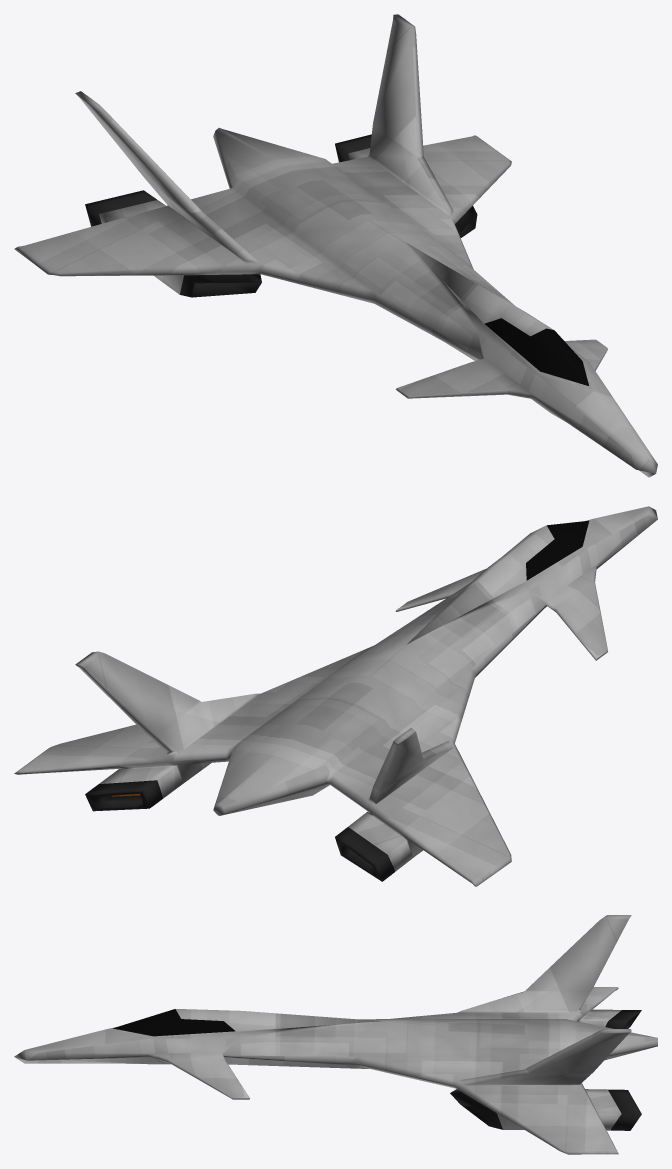
File: stealth aircraft_obj.obj
3 views of the same model, one above another, from view 1: azimuth 30°, elevation 25°; view 2: azimuth 150°, elevation 25°; view 3: azimuth 270°, elevation 25° (orthographic). The views are drawn at different scales.
Visible parts, largest first — view 1: Cube; view 2: Cube; view 3: Cube.
Boxes of the visible parts, bbox=[...] form: Cube: bbox=[14, 14, 657, 477]; Cube: bbox=[14, 506, 657, 886]; Cube: bbox=[14, 915, 657, 1154].
Bounding box in the file's own units: 10.77 × 3.2 × 17.58.
